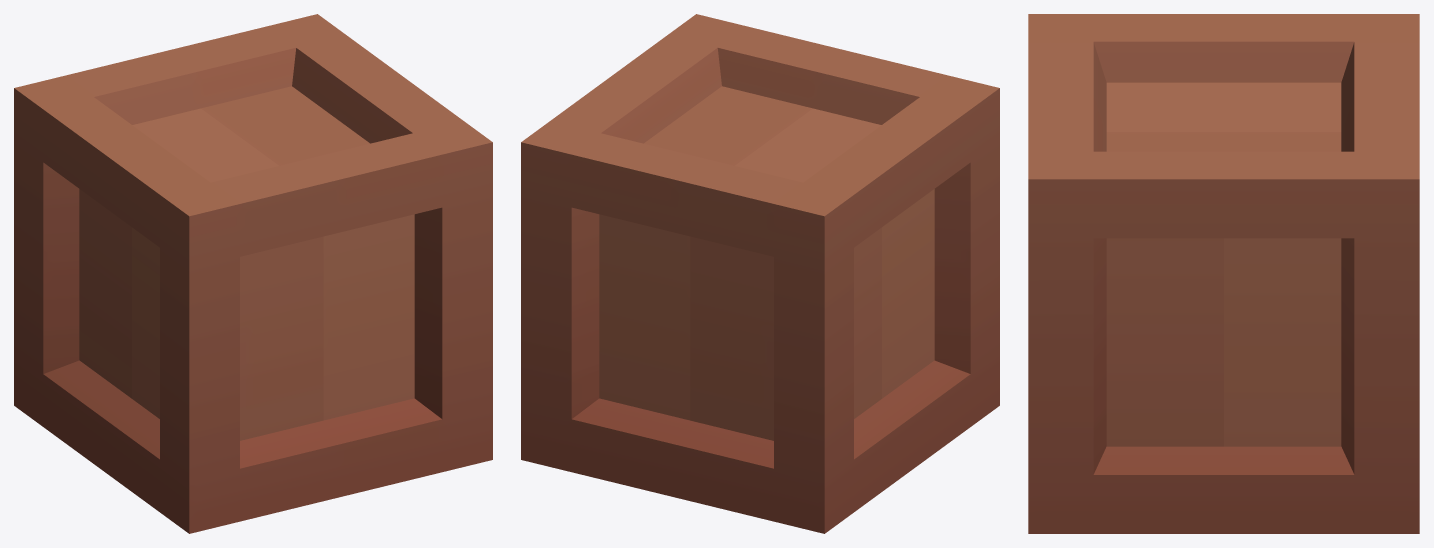
Rendered from crate_a_big.glb.
3 views of the same model, side by side, from view 1: azimuth 30°, elevation 25°; view 2: azimuth 150°, elevation 25°; view 3: azimuth 270°, elevation 25° (orthographic). The views are drawn at different scales.
Visible parts, largest first — view 1: crate_A_big; view 2: crate_A_big; view 3: crate_A_big.
Boxes of the visible parts, x1,y1,x2,y2 form: crate_A_big: [14, 14, 492, 533]; crate_A_big: [521, 14, 999, 533]; crate_A_big: [1028, 14, 1419, 533].
Size of the model in its own units: 0.21 by 0.21 by 0.21.
1 material, 1 textured.
